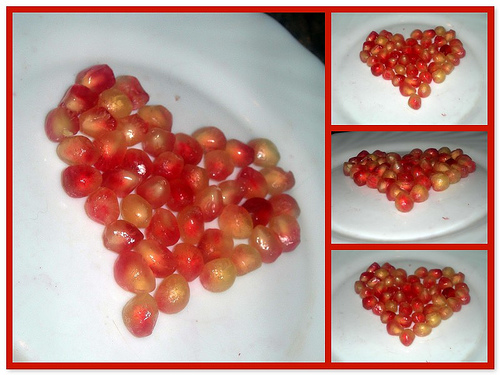pomogranate: (44, 64, 300, 339), (351, 259, 470, 346), (358, 24, 468, 112), (344, 148, 478, 212)
